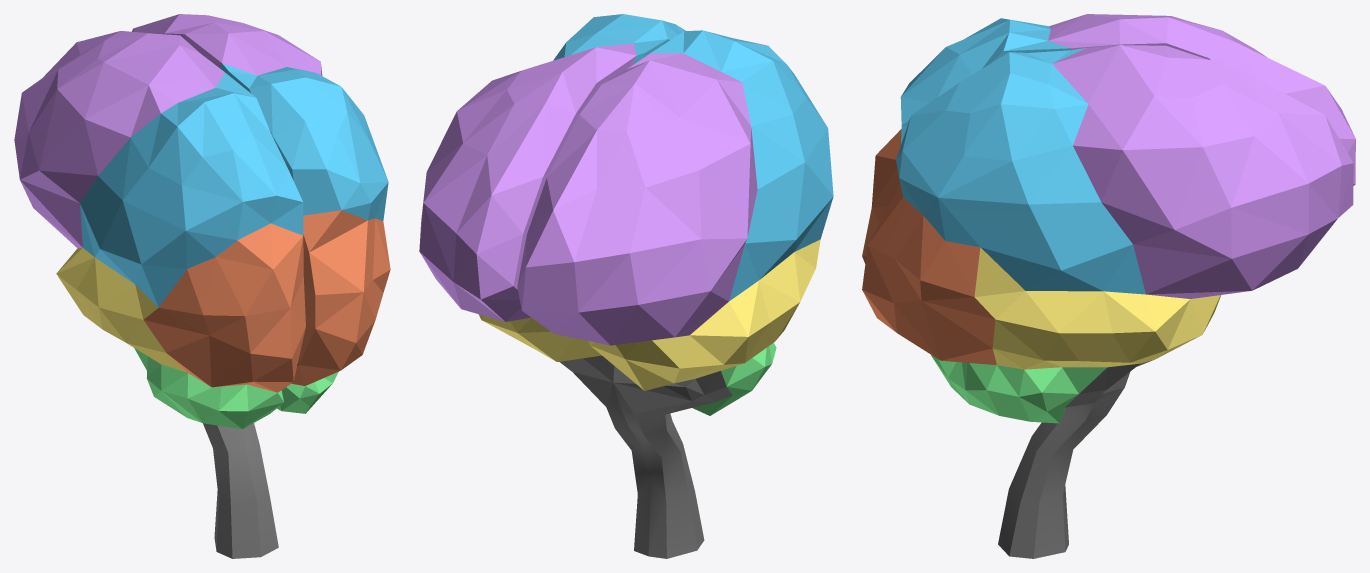
The model's file is brain.obj.
3 renders of one model, left to right at view 1: azimuth 30°, elevation 25°; view 2: azimuth 150°, elevation 25°; view 3: azimuth 270°, elevation 25°, orthographic. The views are drawn at different scales.
Parts seen in each view (by area): view 1: brain_Mesh; view 2: brain_Mesh; view 3: brain_Mesh.
Boxes of the visible parts, x1,y1,x2,y2 form: brain_Mesh: (14, 14, 390, 558); brain_Mesh: (419, 14, 833, 558); brain_Mesh: (862, 14, 1355, 558).
Bounding box in the file's own units: 6.67 × 10.9 × 9.53.
